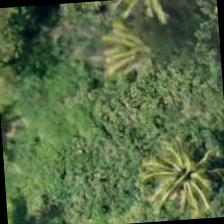Kelapa_Sawit: (82, 0, 179, 95), (139, 124, 223, 222)
